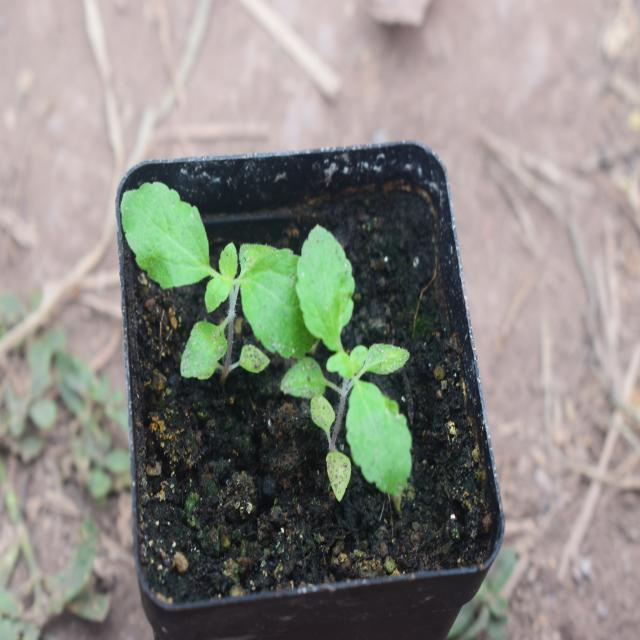billygoat_weed: (298, 212, 426, 514), (126, 179, 308, 376)
